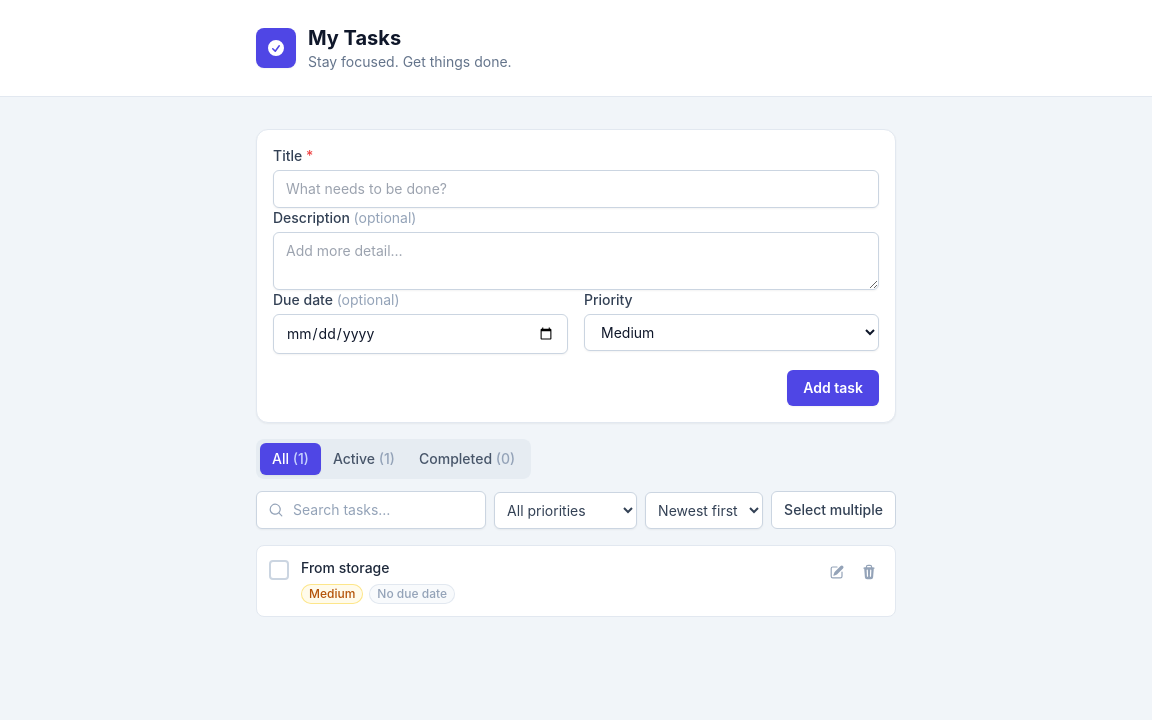
it: App › edits a task through the modal
This screenshot has width=1152, height=720.
Click the button named "Edit From storage" at (837, 572), box left=823, top=558, right=851, bottom=586
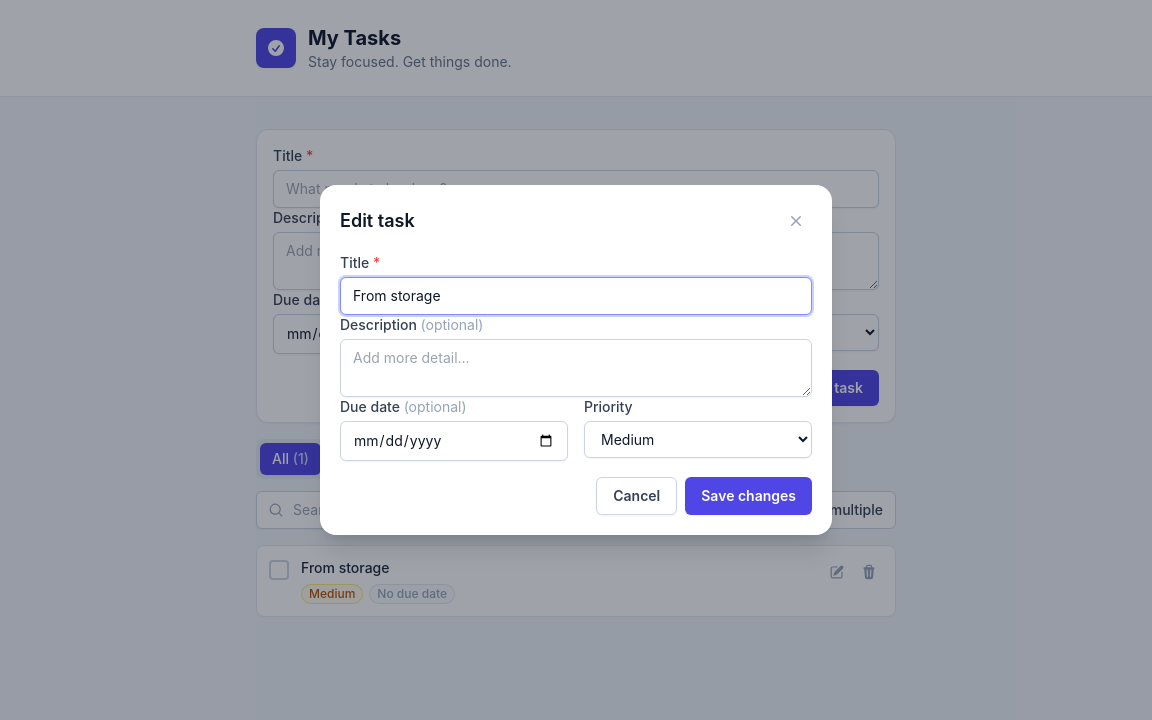
Replace the text in the field labelled "Title *" with "Renamed task" at (576, 296), box left=340, top=277, right=812, bottom=315
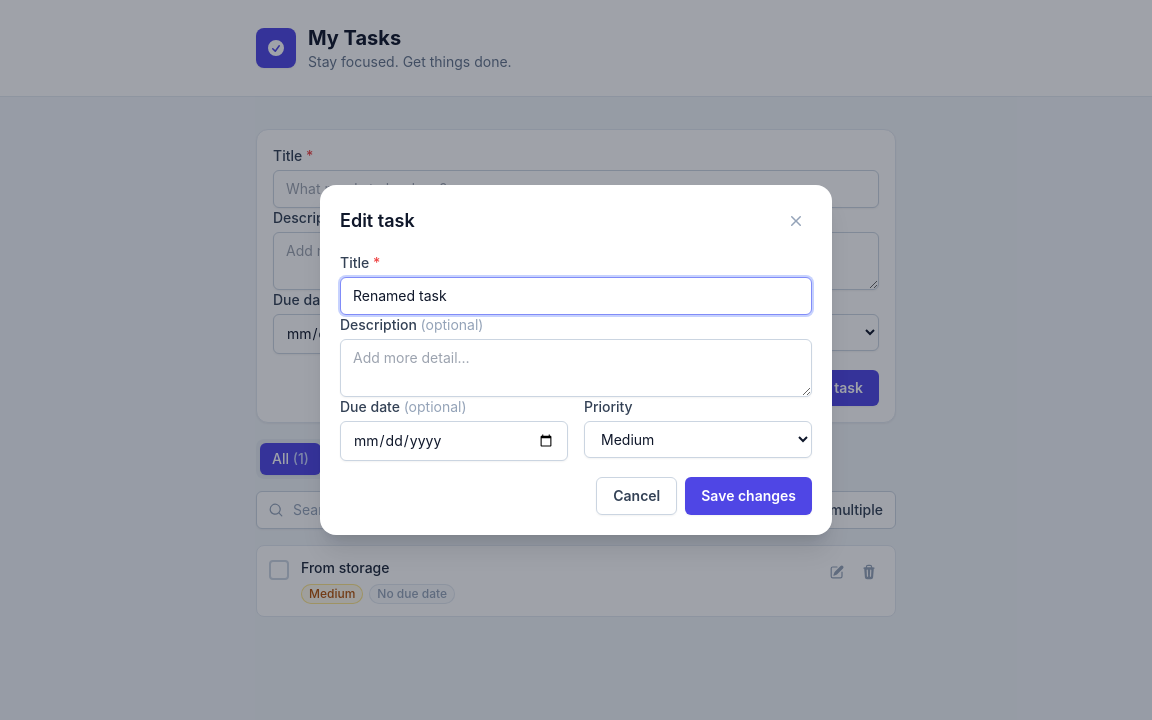
Click the button "Save changes" at (749, 496), box left=685, top=477, right=812, bottom=515
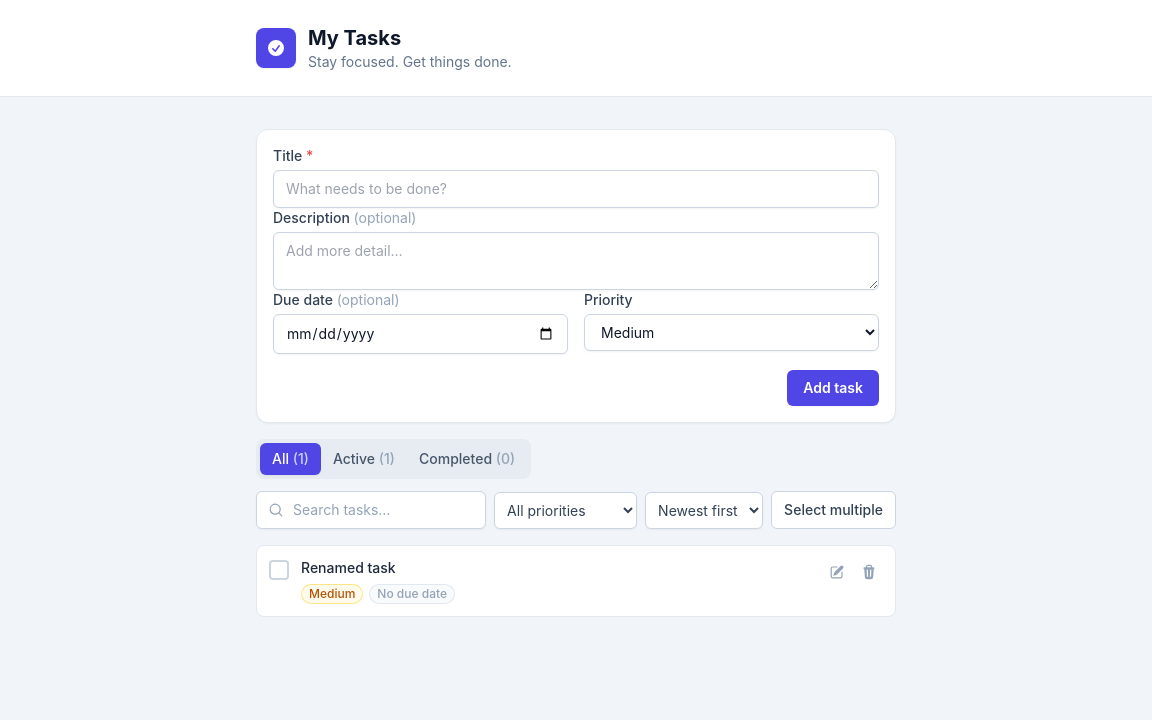
Now the text "Renamed task" is shown, box left=301, top=559, right=396, bottom=576
Now the text "From storage" is gone
